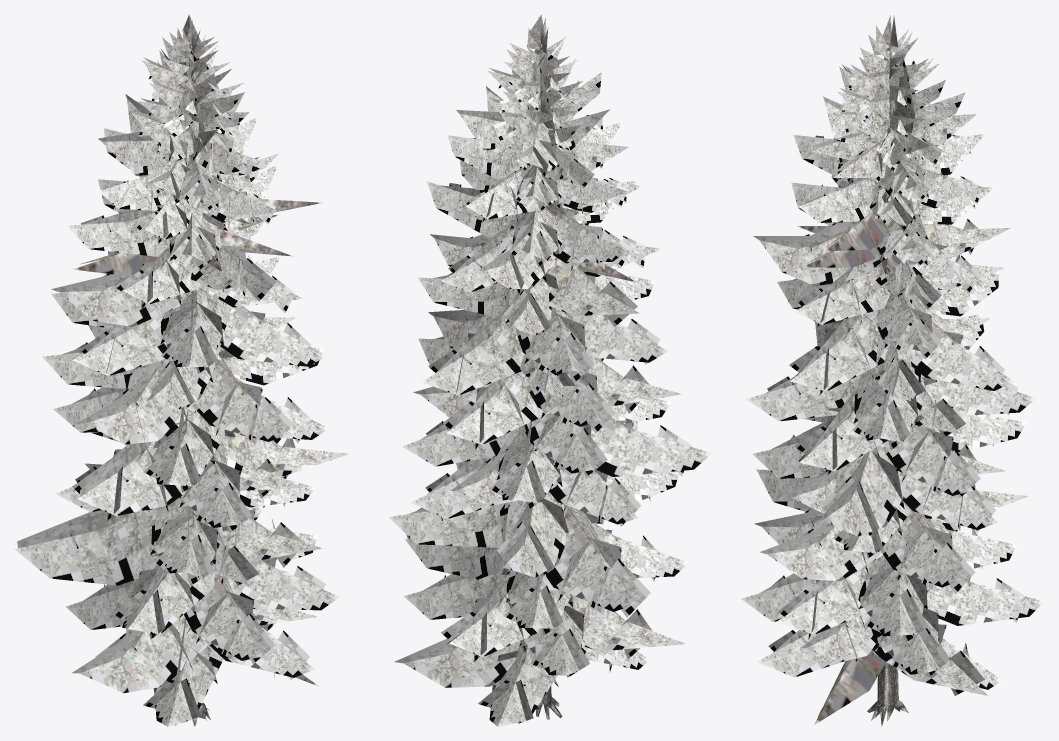
Rendered from arctic-pine-a-mid.glb.
3 views of the same model, side by side, from view 1: azimuth 30°, elevation 25°; view 2: azimuth 150°, elevation 25°; view 3: azimuth 270°, elevation 25° (orthographic).
Parts seen in each view (by area): view 1: pine_a_snow_LOD0; view 2: pine_a_snow_LOD0; view 3: pine_a_snow_LOD0.
Boxes of the visible parts, x1,y1,x2,y2 form: pine_a_snow_LOD0: (14, 14, 349, 726); pine_a_snow_LOD0: (389, 14, 712, 726); pine_a_snow_LOD0: (741, 15, 1044, 726).
Bounding box in the file's own units: 19.54 × 47.91 × 18.66.
Materials: 1 (1 with a texture image).
